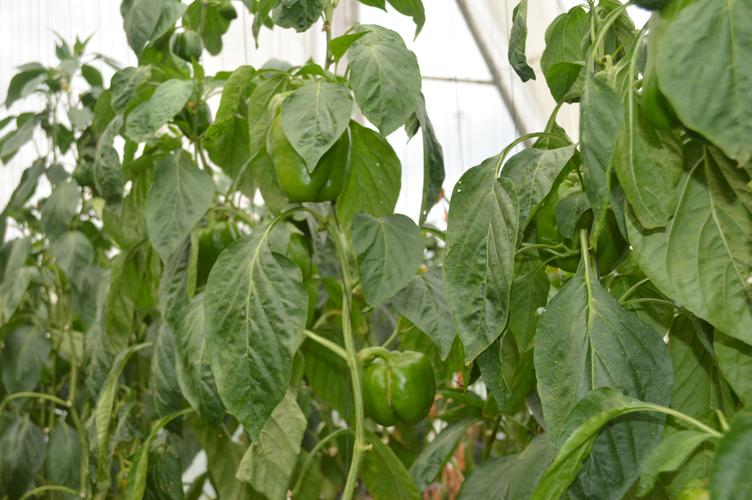BellPepper: (257, 115, 351, 210), (532, 182, 616, 274), (362, 349, 434, 426)
